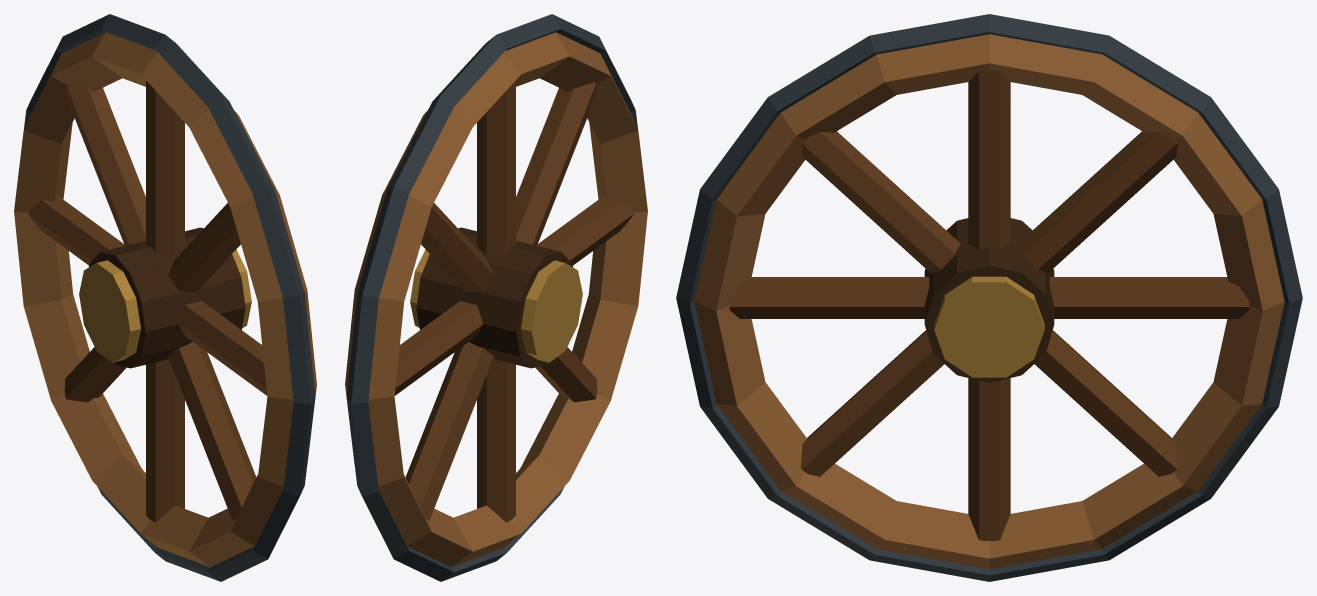
The model's file is WheelLeft.glb.
The picture shows the model from 3 angles, left to right: view 1: azimuth 30°, elevation 25°; view 2: azimuth 150°, elevation 25°; view 3: azimuth 270°, elevation 25°; orthographic projection. The views are drawn at different scales.
Parts seen in each view (by area): view 1: Sculpture; view 2: Sculpture; view 3: Sculpture.
Boxes of the visible parts, <box> form: Sculpture: <box>14,14,316,581</box>; Sculpture: <box>345,14,647,581</box>; Sculpture: <box>676,14,1302,581</box>.
Bounding box in the file's own units: 0.28 × 1.16 × 1.16.
